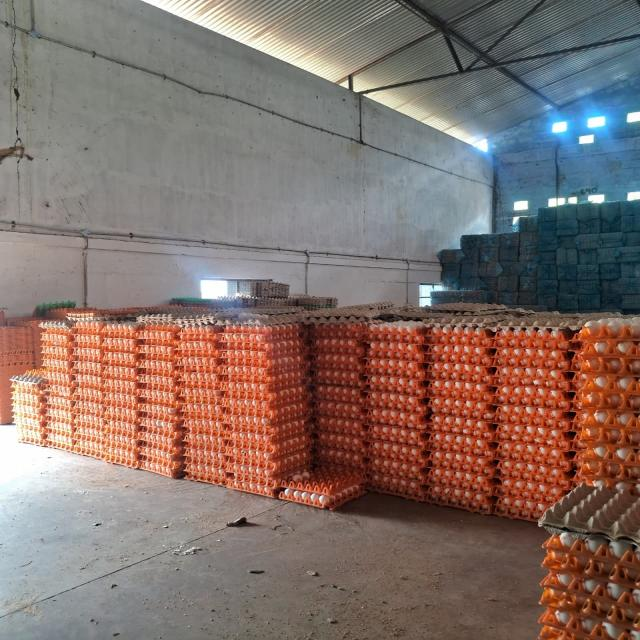egg_tray: (494, 328, 574, 520), (221, 324, 310, 496), (427, 326, 495, 512), (364, 322, 429, 500), (539, 533, 639, 640), (577, 318, 639, 490), (427, 354, 493, 504), (225, 378, 310, 488), (495, 330, 574, 445), (308, 322, 365, 469), (177, 325, 227, 485), (429, 380, 494, 499), (178, 332, 227, 485), (138, 322, 183, 477), (364, 322, 429, 428), (494, 434, 574, 520), (363, 384, 429, 486), (225, 416, 309, 496), (426, 414, 493, 512), (225, 418, 309, 496), (221, 338, 307, 414), (365, 322, 428, 422), (427, 326, 494, 420), (495, 444, 573, 520), (364, 408, 428, 500), (101, 321, 140, 468), (580, 318, 639, 410), (225, 381, 310, 440), (221, 324, 307, 382), (365, 422, 428, 500), (225, 420, 310, 477), (426, 443, 493, 512), (426, 445, 493, 512), (366, 410, 428, 482), (313, 384, 365, 468), (495, 376, 575, 430), (137, 383, 183, 476), (72, 320, 103, 458), (224, 378, 309, 428), (43, 322, 76, 450), (426, 449, 493, 512), (425, 325, 494, 384), (0, 318, 38, 422), (365, 334, 427, 397), (367, 435, 427, 500), (220, 322, 305, 367), (279, 466, 365, 510), (308, 322, 364, 388), (313, 402, 366, 470), (220, 322, 305, 364), (219, 367, 306, 408), (364, 368, 427, 424), (135, 324, 178, 405), (137, 404, 183, 476), (225, 384, 309, 423), (579, 438, 639, 490), (138, 408, 183, 477), (364, 321, 427, 370), (538, 610, 639, 640), (495, 405, 572, 444), (183, 418, 227, 485), (183, 417, 227, 484), (102, 322, 137, 406), (367, 436, 428, 484), (495, 405, 573, 442), (313, 416, 366, 470), (580, 372, 639, 420), (309, 323, 364, 373), (225, 398, 310, 430), (367, 454, 426, 500), (367, 424, 428, 468), (368, 454, 426, 500), (12, 370, 47, 445), (429, 325, 493, 366), (581, 368, 639, 413), (45, 364, 75, 450), (364, 320, 428, 360), (495, 378, 572, 411), (184, 428, 227, 486), (365, 321, 427, 361), (495, 361, 574, 392), (581, 318, 639, 360), (425, 320, 494, 355), (429, 378, 494, 414), (103, 365, 141, 426), (0, 354, 32, 424), (103, 406, 139, 468), (137, 358, 181, 408), (139, 404, 183, 453), (366, 382, 429, 416), (367, 423, 427, 458), (176, 365, 226, 406), (307, 321, 365, 356), (181, 386, 224, 433), (572, 332, 585, 486), (313, 412, 365, 450), (367, 466, 425, 500), (427, 356, 492, 386), (136, 358, 179, 402), (136, 316, 179, 360), (100, 364, 145, 406), (177, 384, 225, 423), (364, 399, 428, 428), (494, 327, 574, 350), (495, 346, 571, 370), (177, 325, 221, 366), (365, 376, 425, 406), (367, 470, 425, 501), (103, 419, 139, 468), (179, 386, 224, 425), (312, 384, 362, 419), (74, 401, 104, 458), (227, 464, 280, 496), (136, 314, 180, 352), (137, 320, 179, 359), (102, 392, 146, 428), (45, 396, 74, 450), (43, 322, 74, 372), (11, 370, 47, 410), (226, 472, 279, 498), (14, 406, 47, 446), (72, 320, 103, 362), (366, 320, 425, 342), (571, 331, 587, 411), (102, 320, 139, 354), (73, 360, 103, 400), (46, 372, 76, 412), (102, 336, 138, 367), (43, 368, 77, 399), (47, 414, 75, 451), (71, 318, 105, 348), (313, 368, 362, 388), (138, 341, 175, 366), (15, 418, 47, 446), (47, 419, 74, 451), (41, 320, 73, 345), (365, 333, 381, 352), (527, 427, 555, 437), (203, 332, 216, 346), (476, 496, 487, 512), (386, 398, 398, 410), (372, 412, 395, 418), (465, 436, 478, 446), (369, 390, 383, 398), (345, 377, 357, 386), (517, 350, 534, 356), (348, 388, 359, 396), (288, 394, 297, 403), (417, 449, 425, 459), (319, 379, 338, 383), (627, 404, 637, 410), (523, 382, 533, 388), (535, 388, 542, 396), (619, 420, 628, 426), (371, 426, 384, 430), (392, 443, 401, 448), (420, 450, 425, 459), (465, 436, 476, 440), (512, 434, 519, 440), (439, 334, 449, 338), (273, 385, 278, 393), (227, 391, 234, 396), (139, 374, 146, 379), (465, 386, 473, 390), (563, 372, 571, 376), (567, 354, 572, 360), (230, 382, 237, 386), (373, 396, 380, 400), (207, 327, 216, 330), (398, 416, 403, 421), (566, 437, 570, 443), (585, 427, 593, 430), (161, 376, 169, 379), (256, 334, 264, 337), (397, 412, 405, 415), (415, 432, 421, 436), (296, 467, 303, 470), (14, 400, 21, 403), (478, 388, 483, 392), (483, 395, 487, 400), (392, 482, 397, 486), (561, 380, 570, 382), (223, 402, 227, 406), (611, 369, 616, 372), (567, 432, 570, 437), (256, 363, 261, 366), (373, 464, 376, 468), (527, 392, 533, 394), (274, 392, 277, 396), (421, 468, 423, 474), (394, 336, 397, 340), (464, 388, 469, 390), (283, 474, 288, 476), (247, 334, 252, 336), (558, 370, 563, 372), (131, 361, 134, 364), (195, 327, 203, 328), (215, 392, 217, 396), (233, 334, 237, 336), (213, 410, 217, 412), (238, 392, 241, 394), (230, 382, 233, 384), (377, 420, 383, 421), (172, 367, 174, 370), (327, 402, 330, 404), (375, 325, 380, 326), (197, 390, 201, 391), (301, 372, 303, 374), (142, 444, 144, 446), (537, 368, 539, 370), (157, 408, 159, 409), (0, 327, 1, 328), (478, 498, 479, 499), (633, 319, 634, 319), (409, 474, 410, 474), (461, 505, 461, 505), (623, 367, 623, 369), (114, 363, 119, 363), (477, 416, 481, 416), (159, 358, 163, 358), (340, 381, 341, 381), (321, 374, 321, 376), (227, 400, 227, 401), (633, 436, 634, 436), (139, 383, 140, 383), (251, 414, 254, 414), (241, 334, 243, 334), (412, 496, 413, 496), (417, 496, 420, 496), (421, 491, 421, 493), (501, 443, 501, 443), (396, 428, 398, 428), (418, 419, 419, 419), (409, 409, 409, 410), (556, 370, 557, 370), (480, 501, 482, 501)
